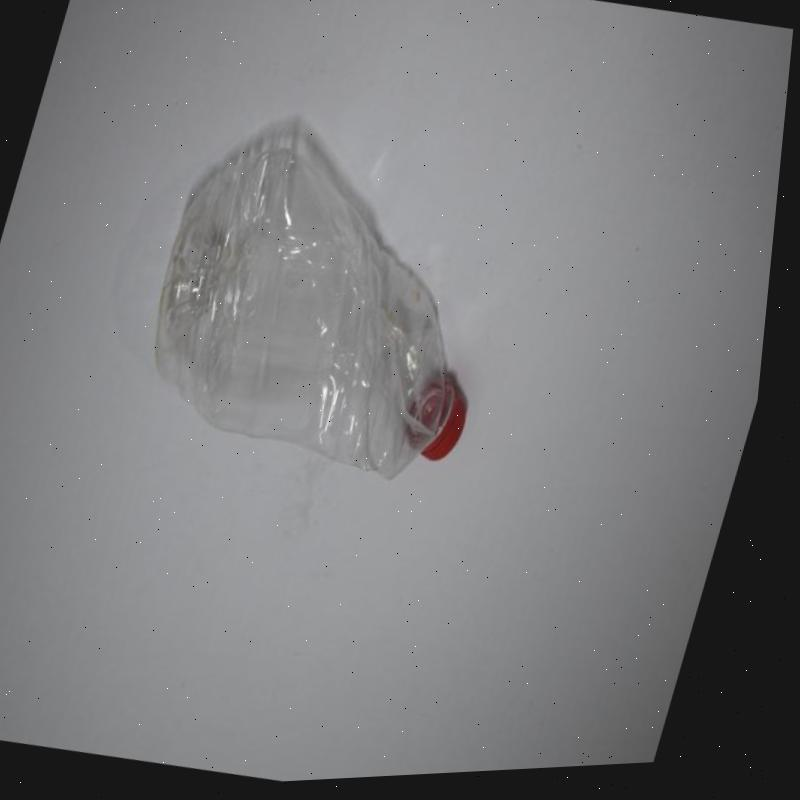botella: (118, 83, 555, 511)
